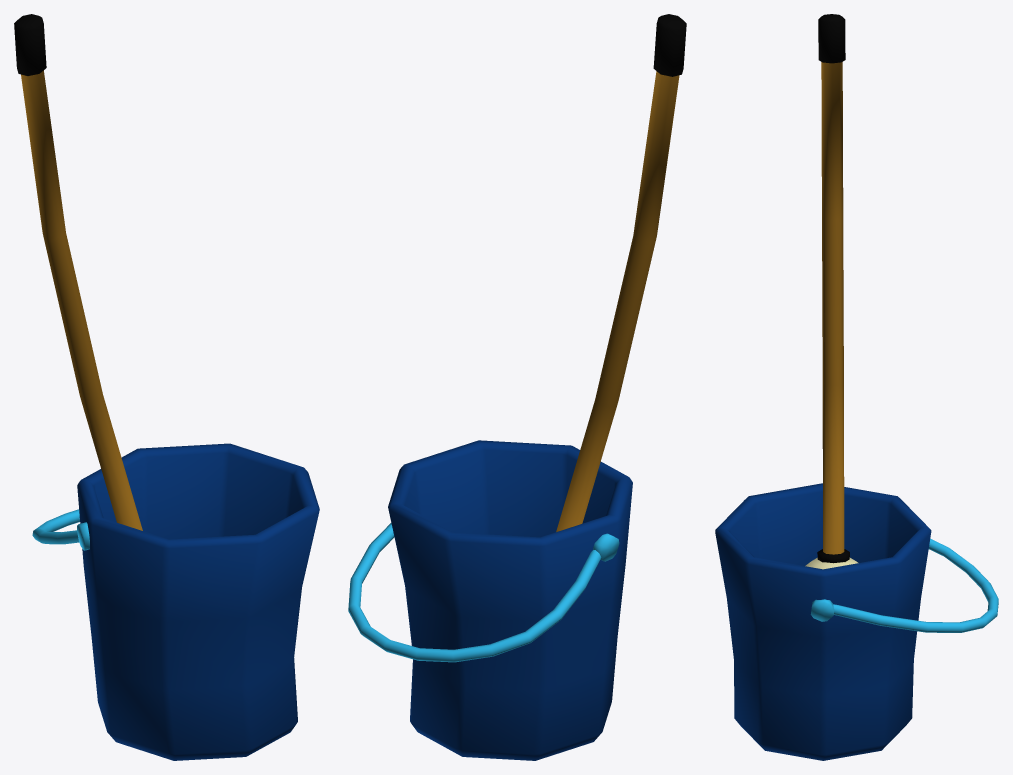
The model's file is props_serpilliere.fbx.
3 renders of one model, left to right at view 1: azimuth 30°, elevation 25°; view 2: azimuth 150°, elevation 25°; view 3: azimuth 270°, elevation 25°, orthographic. The views are drawn at different scales.
Visible parts, largest first — view 1: Bucket, Broom; view 2: Bucket, Broom; view 3: Bucket, Broom.
Boxes of the visible parts, box(x1,y1,x2,y2) form: Bucket: box(32, 443, 319, 760); Broom: box(14, 14, 142, 530); Bucket: box(348, 440, 632, 760); Broom: box(556, 14, 686, 531); Bucket: box(715, 483, 998, 760); Broom: box(805, 14, 858, 569).
Bounding box in the file's own units: 105 × 260 × 104.
